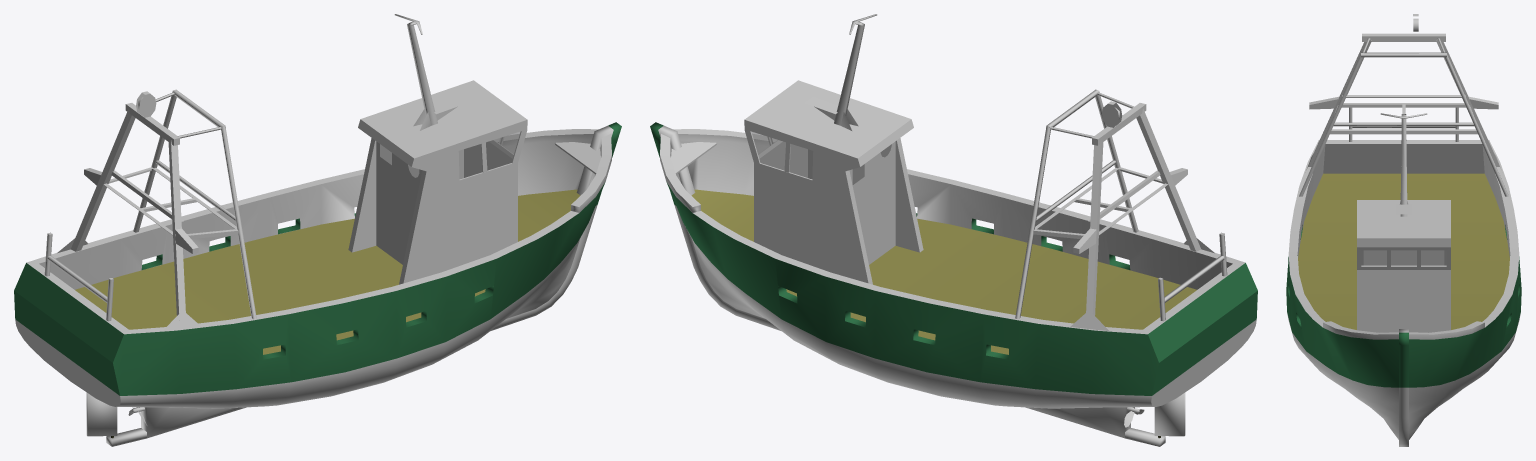
File: shipexample.obj
The picture shows the model from 3 angles, left to right: view 1: azimuth 30°, elevation 25°; view 2: azimuth 150°, elevation 25°; view 3: azimuth 270°, elevation 25°; orthographic projection. The views are drawn at different scales.
Visible parts, largest first — view 1: coque, cabine, pont, poupe, portique, lisse, quille, portiqueCylindre, mat, safran, coqueSabords_coqueSabords.001, rampe (+1 smaller); view 2: coque, cabine, pont, poupe, portique, lisse, quille, portiqueCylindre, mat, safran, coqueSabords_coqueSabords.001, rampe (+1 smaller); view 3: pont, coque, cabine, poupe, portique, lisse, portiqueCylindre, quille, mat, potence, rampe.
Part boxes in pixels (<box>): coque: <box>39,134,611,408</box>; cabine: <box>348,80,527,284</box>; pont: <box>75,189,580,354</box>; poupe: <box>14,262,128,406</box>; portique: <box>57,103,238,330</box>; lisse: <box>27,129,611,334</box>; quille: <box>106,122,621,446</box>; portiqueCylindre: <box>133,89,256,319</box>; mat: <box>407,24,466,130</box>; safran: <box>86,392,117,436</box>; coqueSabords_coqueSabords.001: <box>141,213,493,359</box>; rampe: <box>44,232,113,321</box>; coque: <box>660,134,1232,408</box>; cabine: <box>744,80,923,284</box>; pont: <box>691,189,1196,354</box>; poupe: <box>1143,262,1257,406</box>; portique: <box>1033,103,1214,330</box>; lisse: <box>660,129,1244,334</box>; quille: <box>650,122,1165,446</box>; portiqueCylindre: <box>1015,89,1138,319</box>; mat: <box>805,24,864,130</box>; safran: <box>1154,392,1185,436</box>; coqueSabords_coqueSabords.001: <box>778,213,1130,359</box>; rampe: <box>1158,232,1227,321</box>; pont: <box>1298,173,1509,329</box>; coque: <box>1286,145,1521,439</box>; cabine: <box>1357,200,1450,332</box>; poupe: <box>1319,140,1488,173</box>; portique: <box>1306,33,1501,169</box>; lisse: <box>1288,140,1519,334</box>; portiqueCylindre: <box>1299,38,1508,196</box>; quille: <box>1399,329,1408,446</box>; mat: <box>1396,118,1411,216</box>; potence: <box>1309,96,1498,109</box>; rampe: <box>1349,107,1458,141</box>.
Size of the model in its own units: 11.05 by 6.61 by 4.66.
